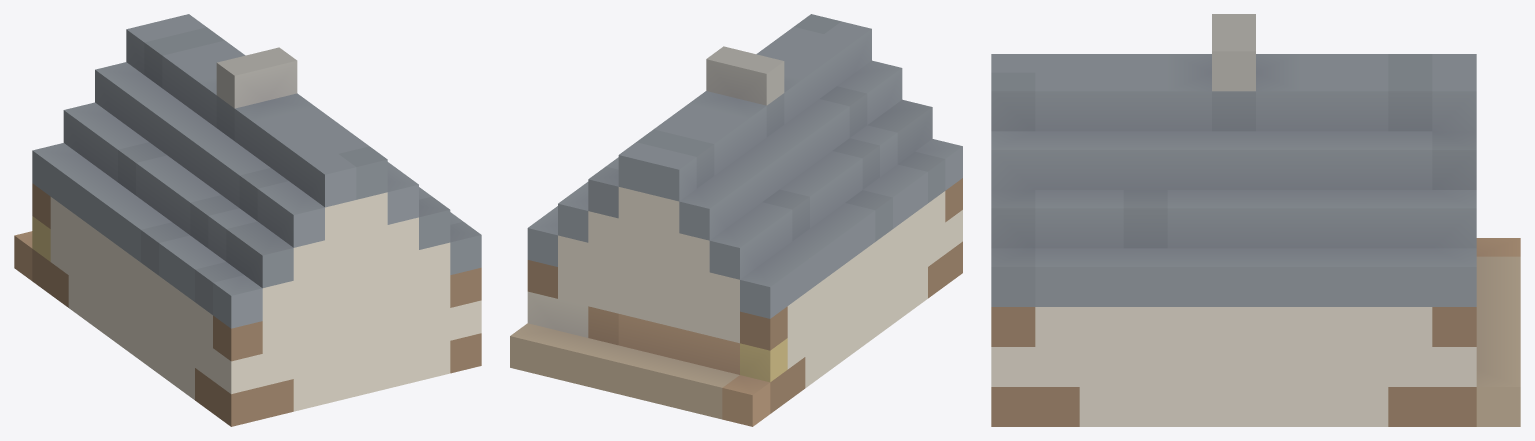
Rendered from malt_house.lite.glb.
3 views of the same model, side by side, from view 1: azimuth 30°, elevation 25°; view 2: azimuth 150°, elevation 25°; view 3: azimuth 270°, elevation 25° (orthographic). The views are drawn at different scales.
Visible parts, largest first — view 1: malt_house; view 2: malt_house; view 3: malt_house.
Boxes of the visible parts, <box> form: malt_house: <box>14,14,481,426</box>; malt_house: <box>510,14,962,426</box>; malt_house: <box>991,14,1520,426</box>.
Bounding box in the file's own units: 4 × 4 × 6.
